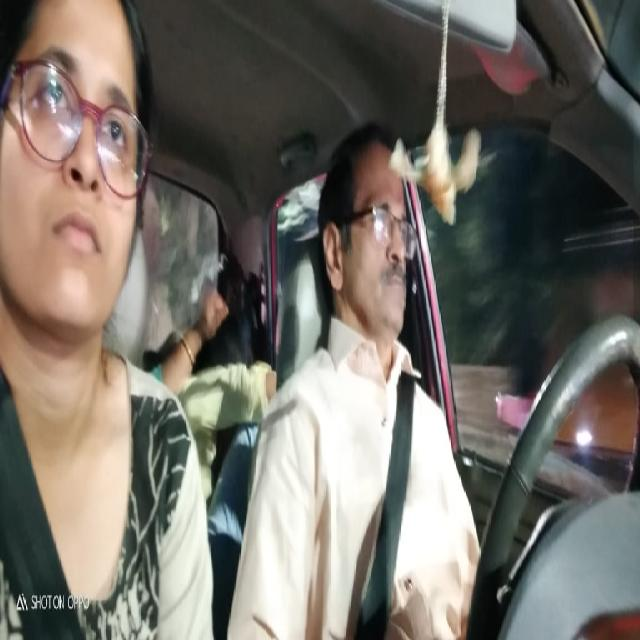person: (5, 0, 141, 329), (321, 146, 413, 344)
